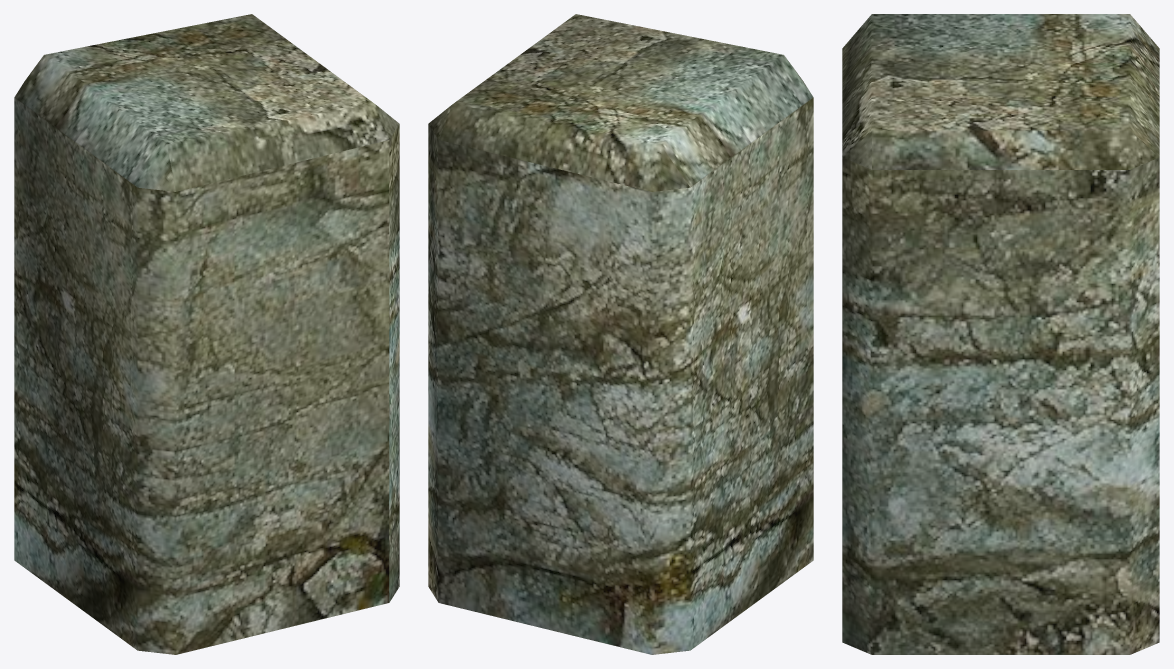
File: rock-tower.glb
3 views of the same model, side by side, from view 1: azimuth 30°, elevation 25°; view 2: azimuth 150°, elevation 25°; view 3: azimuth 270°, elevation 25° (orthographic). The views are drawn at different scales.
Parts seen in each view (by area): view 1: rock-tower; view 2: rock-tower; view 3: rock-tower.
Boxes of the visible parts, x1,y1,x2,y2 form: rock-tower: (14, 14, 399, 654); rock-tower: (428, 14, 813, 654); rock-tower: (842, 14, 1159, 654).
Bounding box in the file's own units: 3.42 × 6.21 × 3.42.
Materials: 1 (1 with a texture image).
